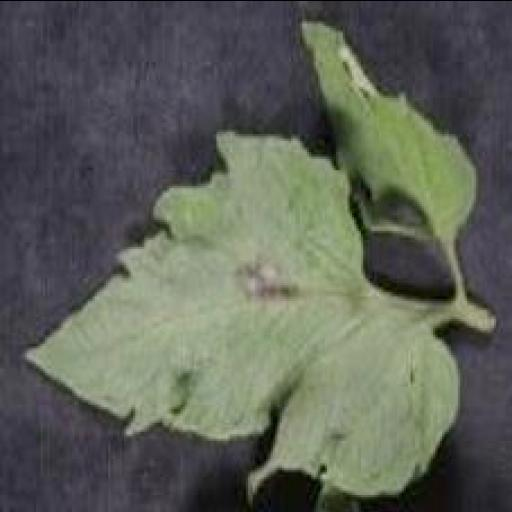disease_tomato: (12, 14, 500, 510)
